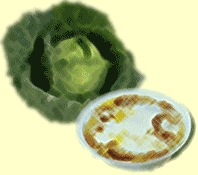cabbage: (45, 33, 109, 98)
